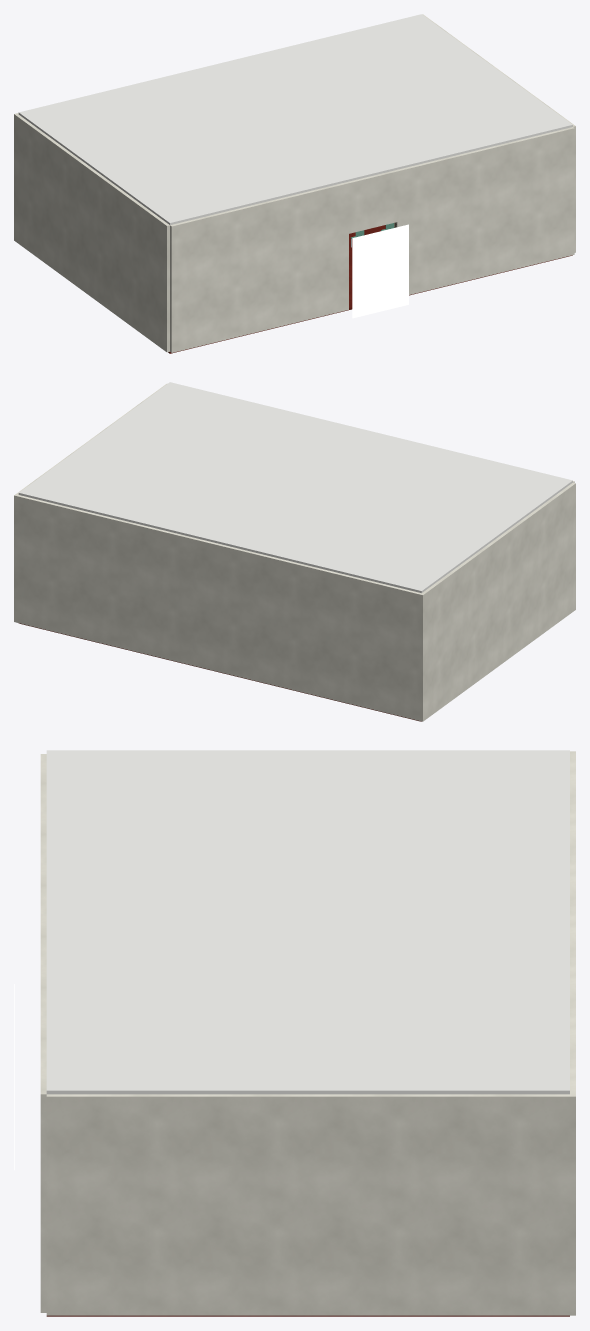
Rendered from room_collectorate.glb.
The picture shows the model from 3 angles, top to bottom: view 1: azimuth 30°, elevation 25°; view 2: azimuth 150°, elevation 25°; view 3: azimuth 270°, elevation 25°; orthographic projection. The views are drawn at different scales.
Parts seen in each view (by area): view 1: Room; view 2: Room; view 3: Room.
Boxes of the visible parts, x1=… form: Room: x1=14, y1=14, x2=575, y2=353; Room: x1=14, y1=382, x2=575, y2=721; Room: x1=14, y1=750, x2=575, y2=1316.
Size of the model in its own units: 20.3 by 6.2 by 13.96.
36 materials, 7 textured.
